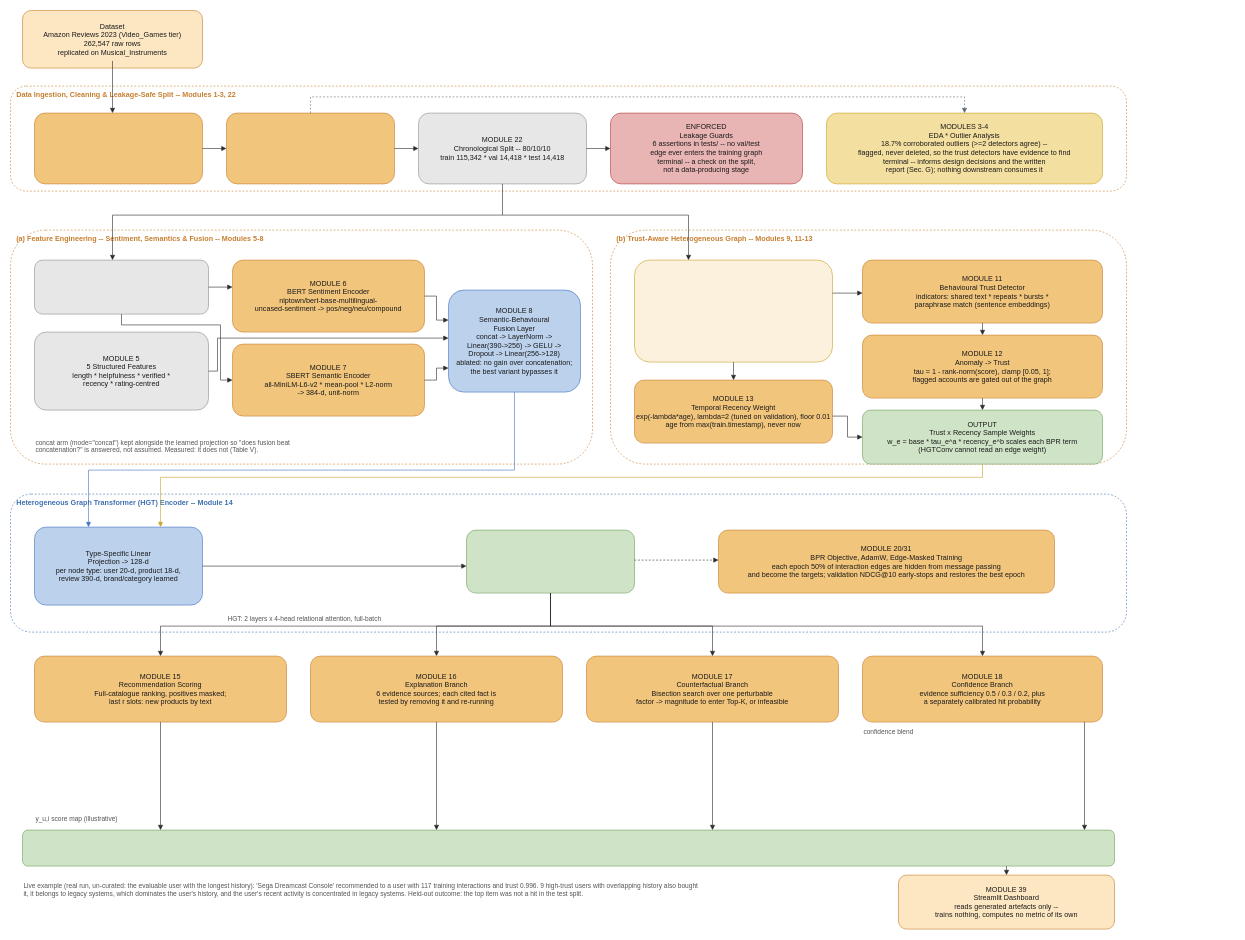
Image size: 1245x940. Some labels were removed from this diagram. The shapes that lost their labels are listed below. From the top down, each one's centre as x and y in pixels, then its label:
point 118,148: MODULE 1 Ingestion & Schema Adapter field presence checked, never invented
point 310,148: MODULE 2 Cleaning & k-core Filter 262,547 -> 144,178 rows (54.9% retained)
point 121,287: review_title + review_text
point 733,311: 5-type heterogeneous graph G = (V, E)
point 550,561: OUTPUT User / Product Embeddings 128-d, score(u,i) = e_u . e_i
point 568,848: Trust-Calibrated Explainable Top-K Recommendation
